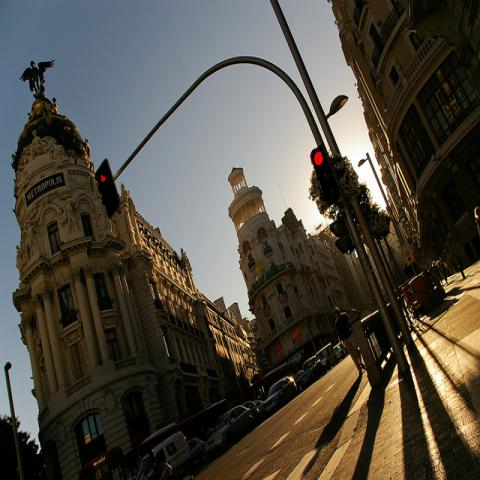car: (136, 432, 192, 480), (205, 405, 253, 454), (262, 376, 298, 415), (297, 354, 326, 391), (315, 342, 338, 372), (187, 438, 208, 469), (244, 401, 261, 427), (333, 342, 345, 360), (254, 400, 265, 418)
